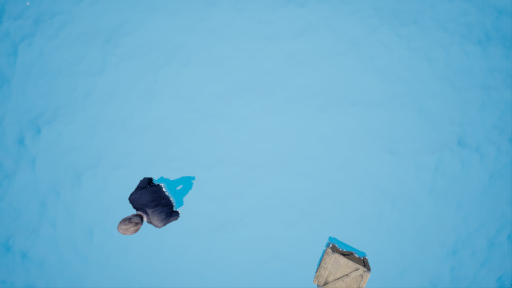person: (108, 176, 203, 248)
